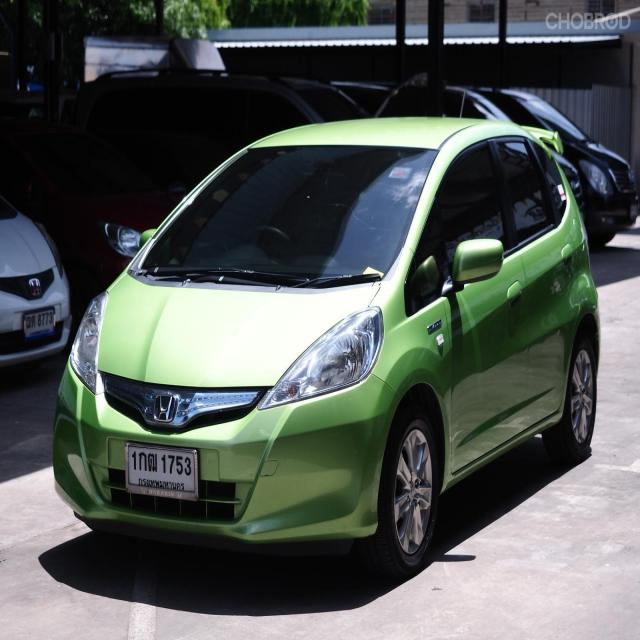license_plate: (120, 434, 207, 506)
